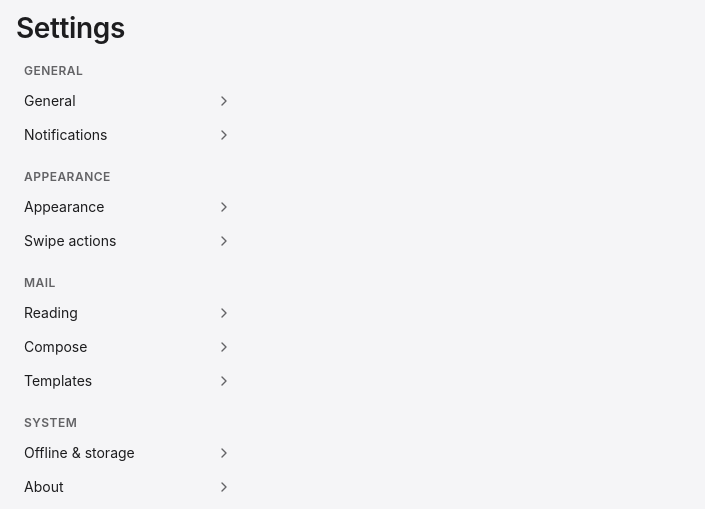
heading structure (G6) › gives the phone’s detail screen its own h1 — the section’s name
Click the link "Compose".
click(56, 347)  # box [24, 338, 232, 355]
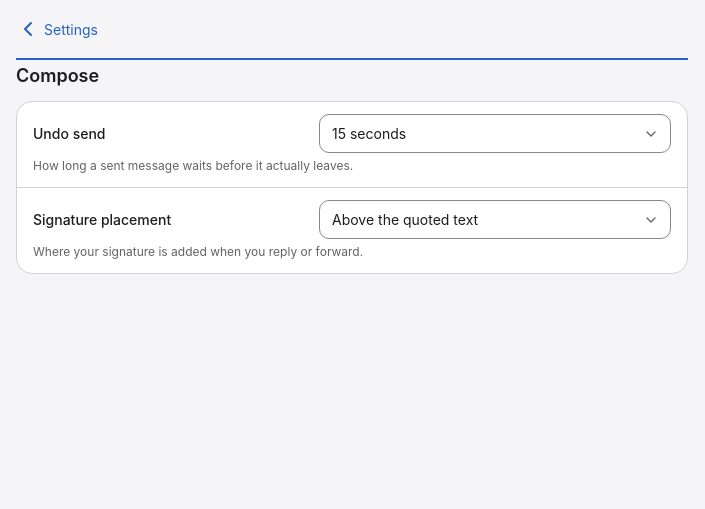
Check: the headings read "Compose", in this order, box [16, 65, 99, 86]
